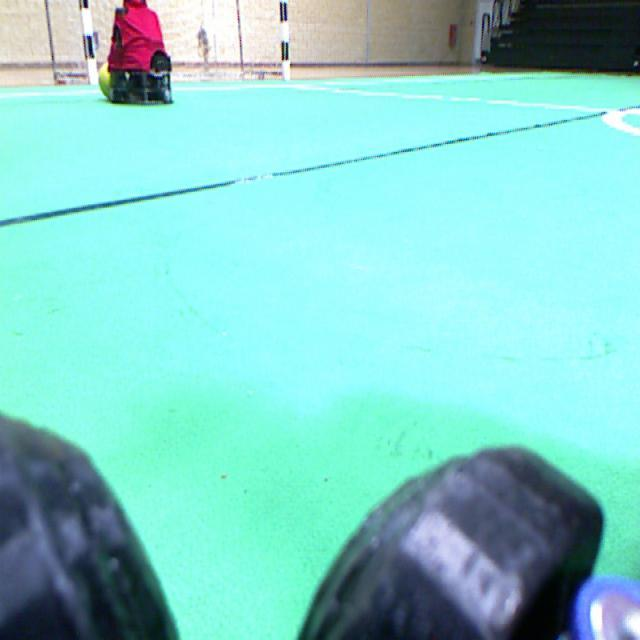ball: (98, 61, 110, 99)
